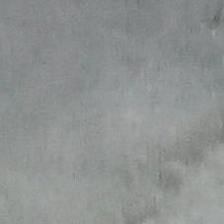Non_Crack: (11, 0, 215, 197)
